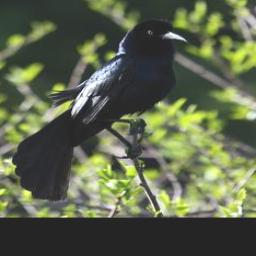Crow: (13, 16, 189, 199)
